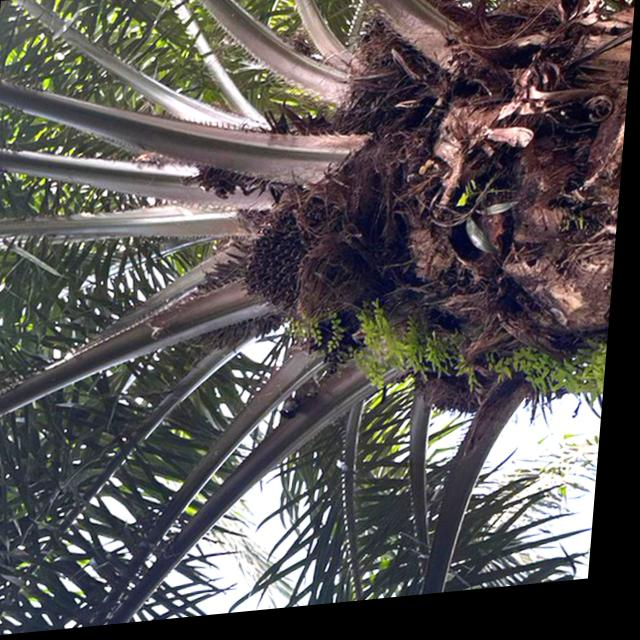almost: (243, 191, 339, 322)
